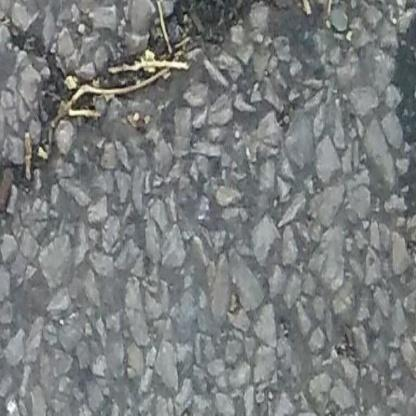Cracks: (0, 0, 311, 232)
